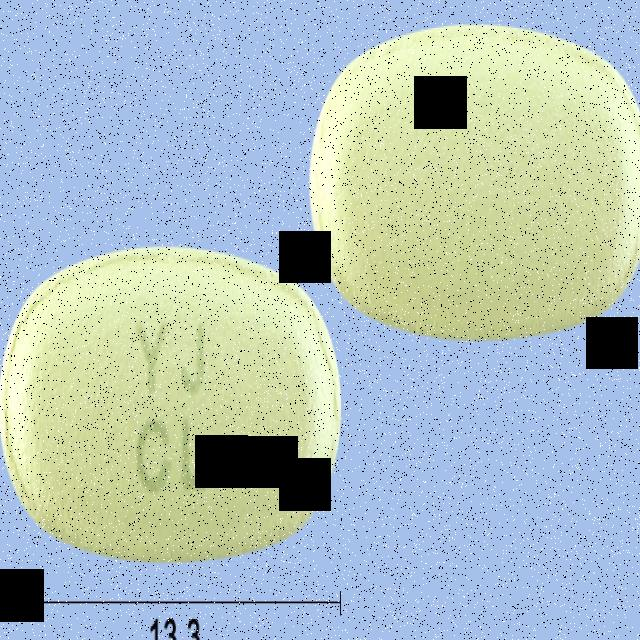Clacid -500mg: (0, 242, 350, 568)
